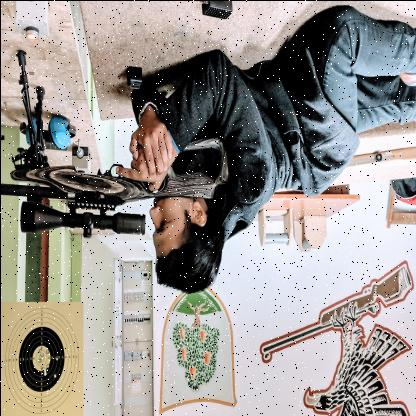rifle: (0, 46, 230, 240), (258, 258, 414, 364)
